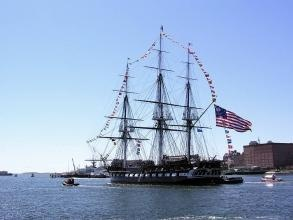fanchuan: (101, 29, 238, 185)
otherboat: (258, 170, 286, 184)
